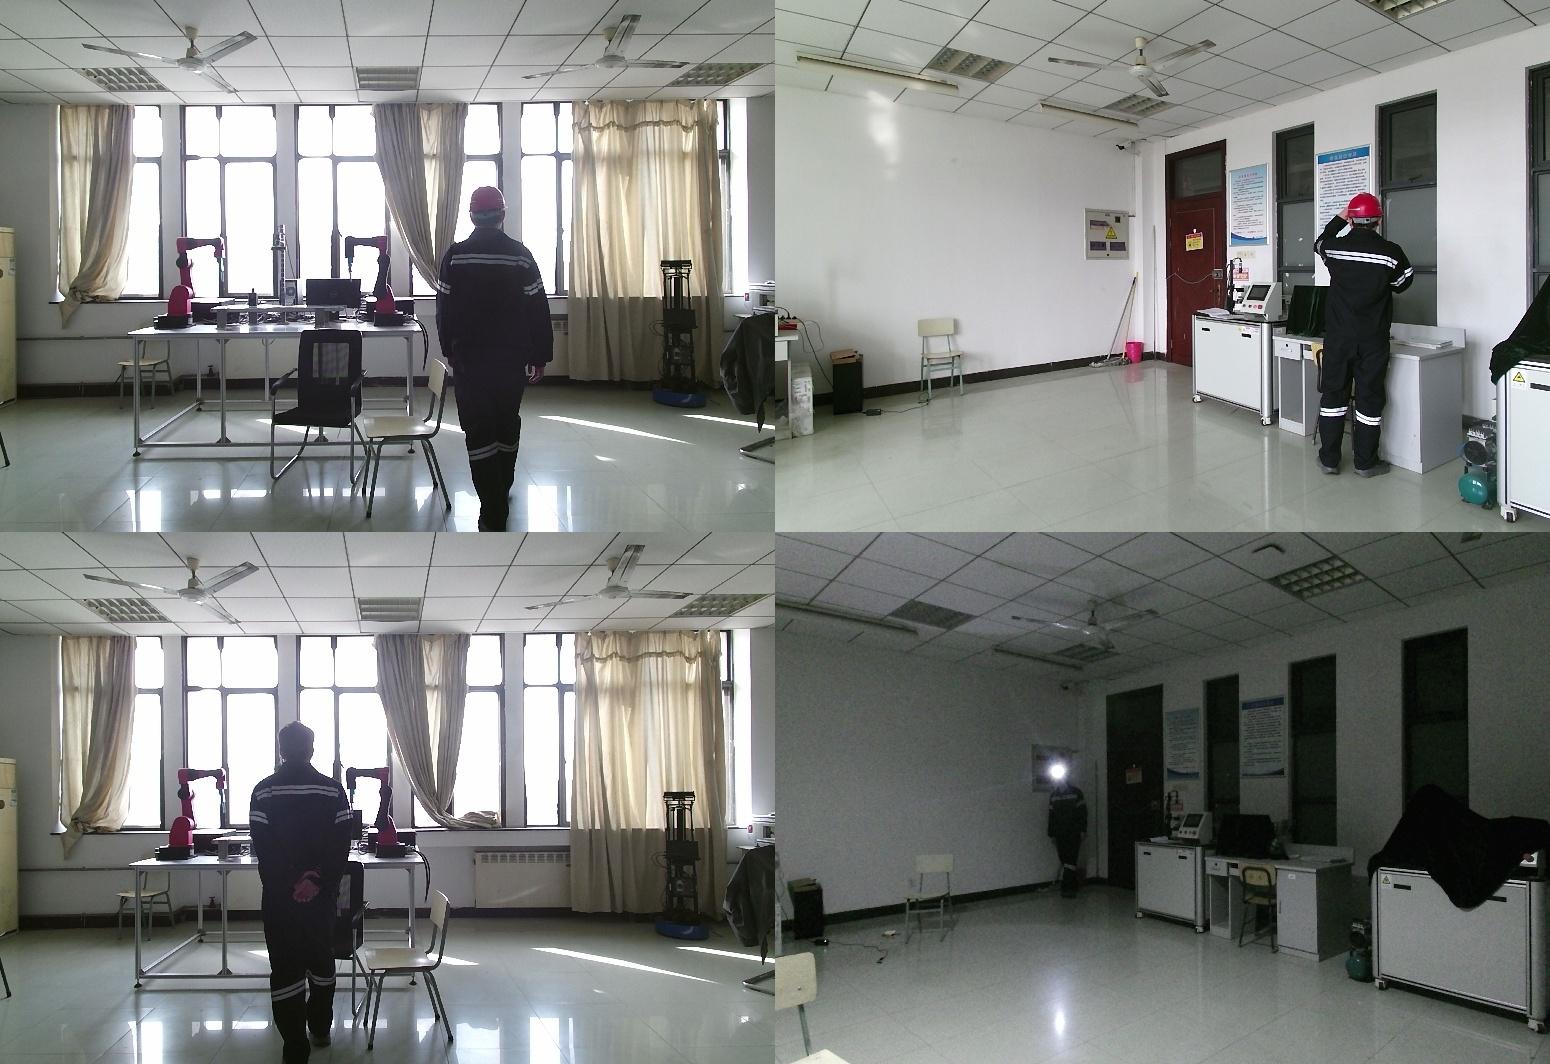person: (438, 185, 559, 532), (246, 724, 355, 1064), (1315, 192, 1440, 479), (1040, 769, 1088, 899)
